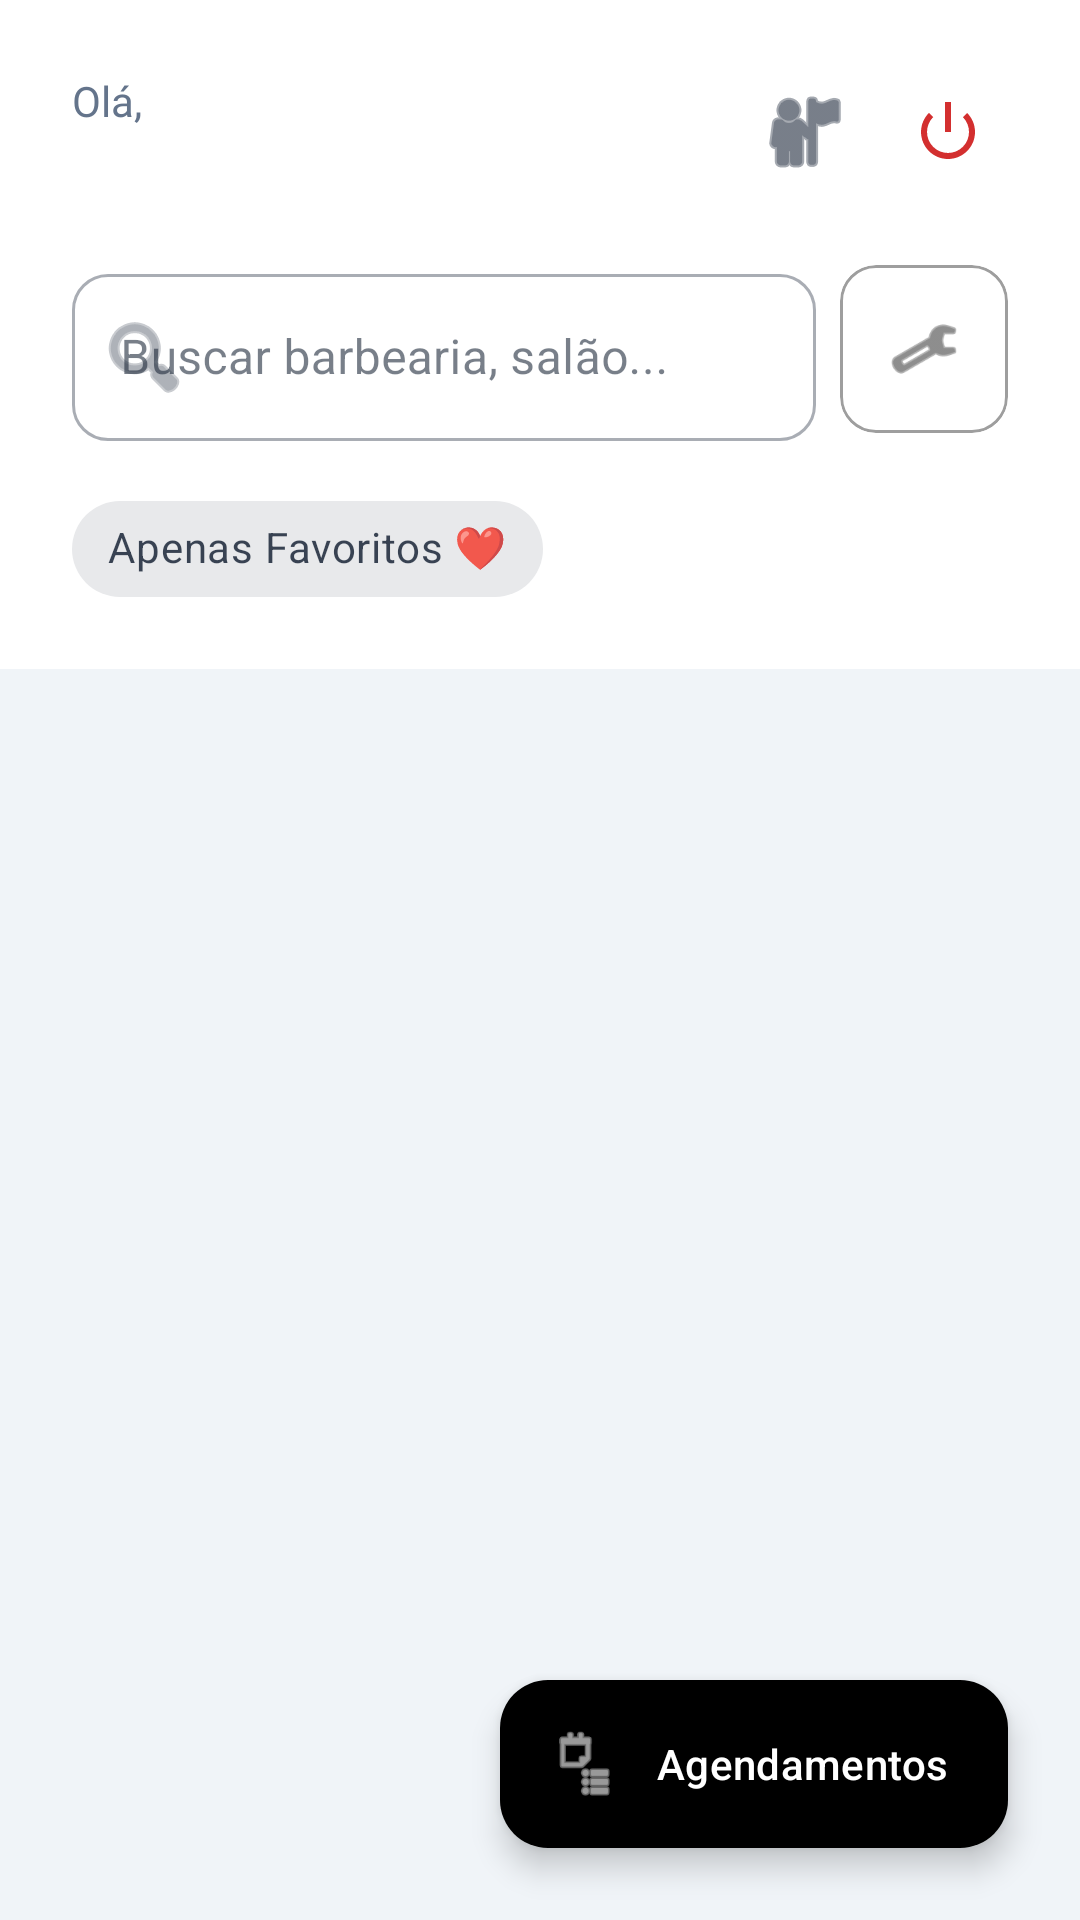

Screen size 1080x1920. Icon name, then its box in pixels as detection(x1, y1, x2, y2):
Meu Perfil: detection(769, 96, 841, 168)
preferences: detection(892, 324, 956, 374)
Sair: detection(921, 102, 975, 159)
